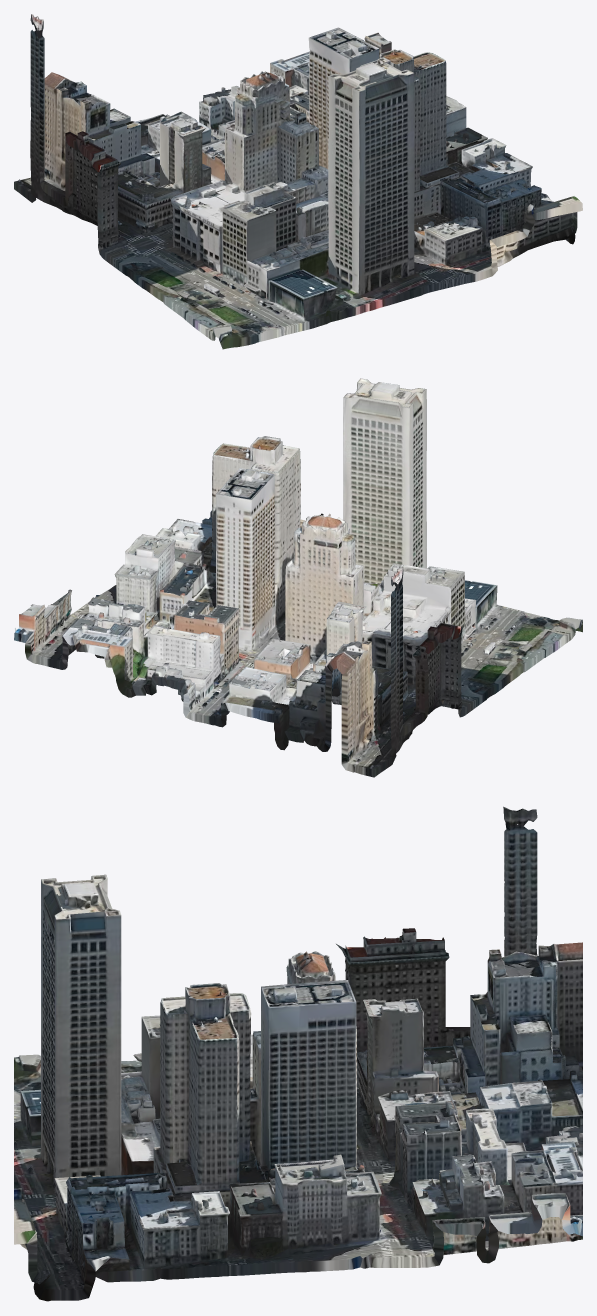
Rendered from z17-20968-50655-h0-yup-uvflip-v3-world.glb.
3 views of the same model, one above another, from view 1: azimuth 30°, elevation 25°; view 2: azimuth 150°, elevation 25°; view 3: azimuth 270°, elevation 25° (orthographic). The views are drawn at different scales.
Size of the model in its own units: 242 by 142 by 243.
1 material, 1 textured.
